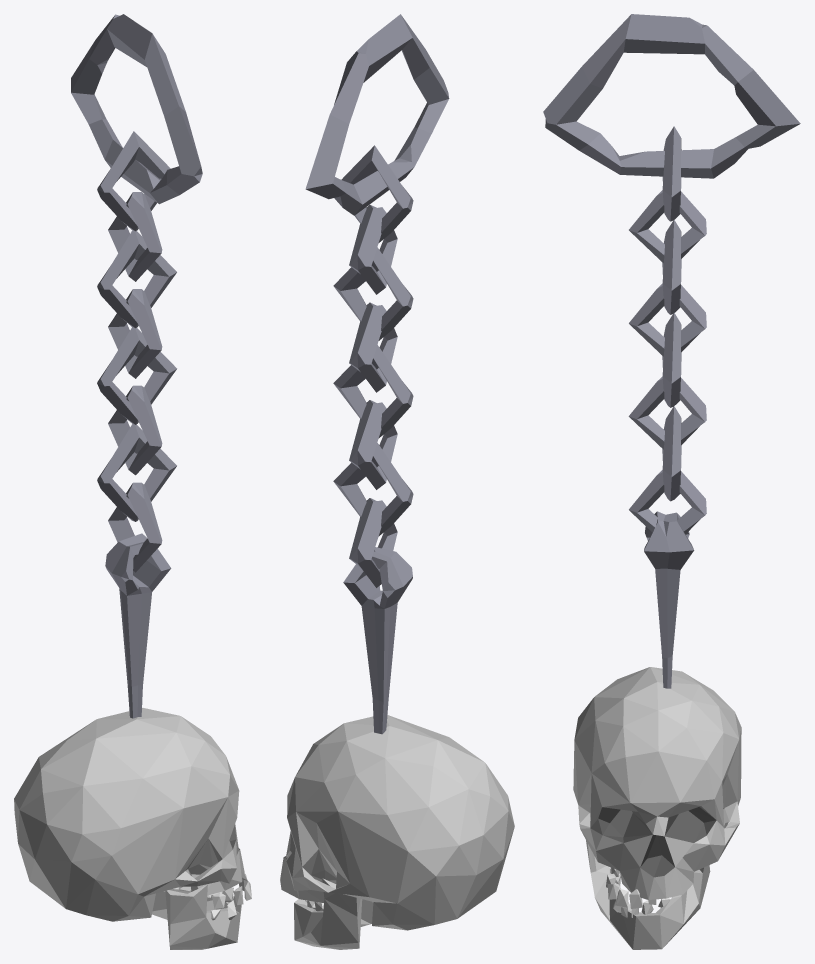
Rendered from HWN20_SkullChain_02.glb.
The picture shows the model from 3 angles, left to right: view 1: azimuth 30°, elevation 25°; view 2: azimuth 150°, elevation 25°; view 3: azimuth 270°, elevation 25°; orthographic projection. The views are drawn at different scales.
Visible parts, largest first — view 1: HWN20_SkullChain_02; view 2: HWN20_SkullChain_02; view 3: HWN20_SkullChain_02.
Part boxes in pixels (left/top/right/bottom): HWN20_SkullChain_02: left=14, top=14, right=251, bottom=949; HWN20_SkullChain_02: left=280, top=14, right=514, bottom=949; HWN20_SkullChain_02: left=543, top=14, right=800, bottom=949.
Size of what is drawn, in the model's own units: 0.3741 by 1.58 by 0.411.
Materials: 1 (1 with a texture image).
